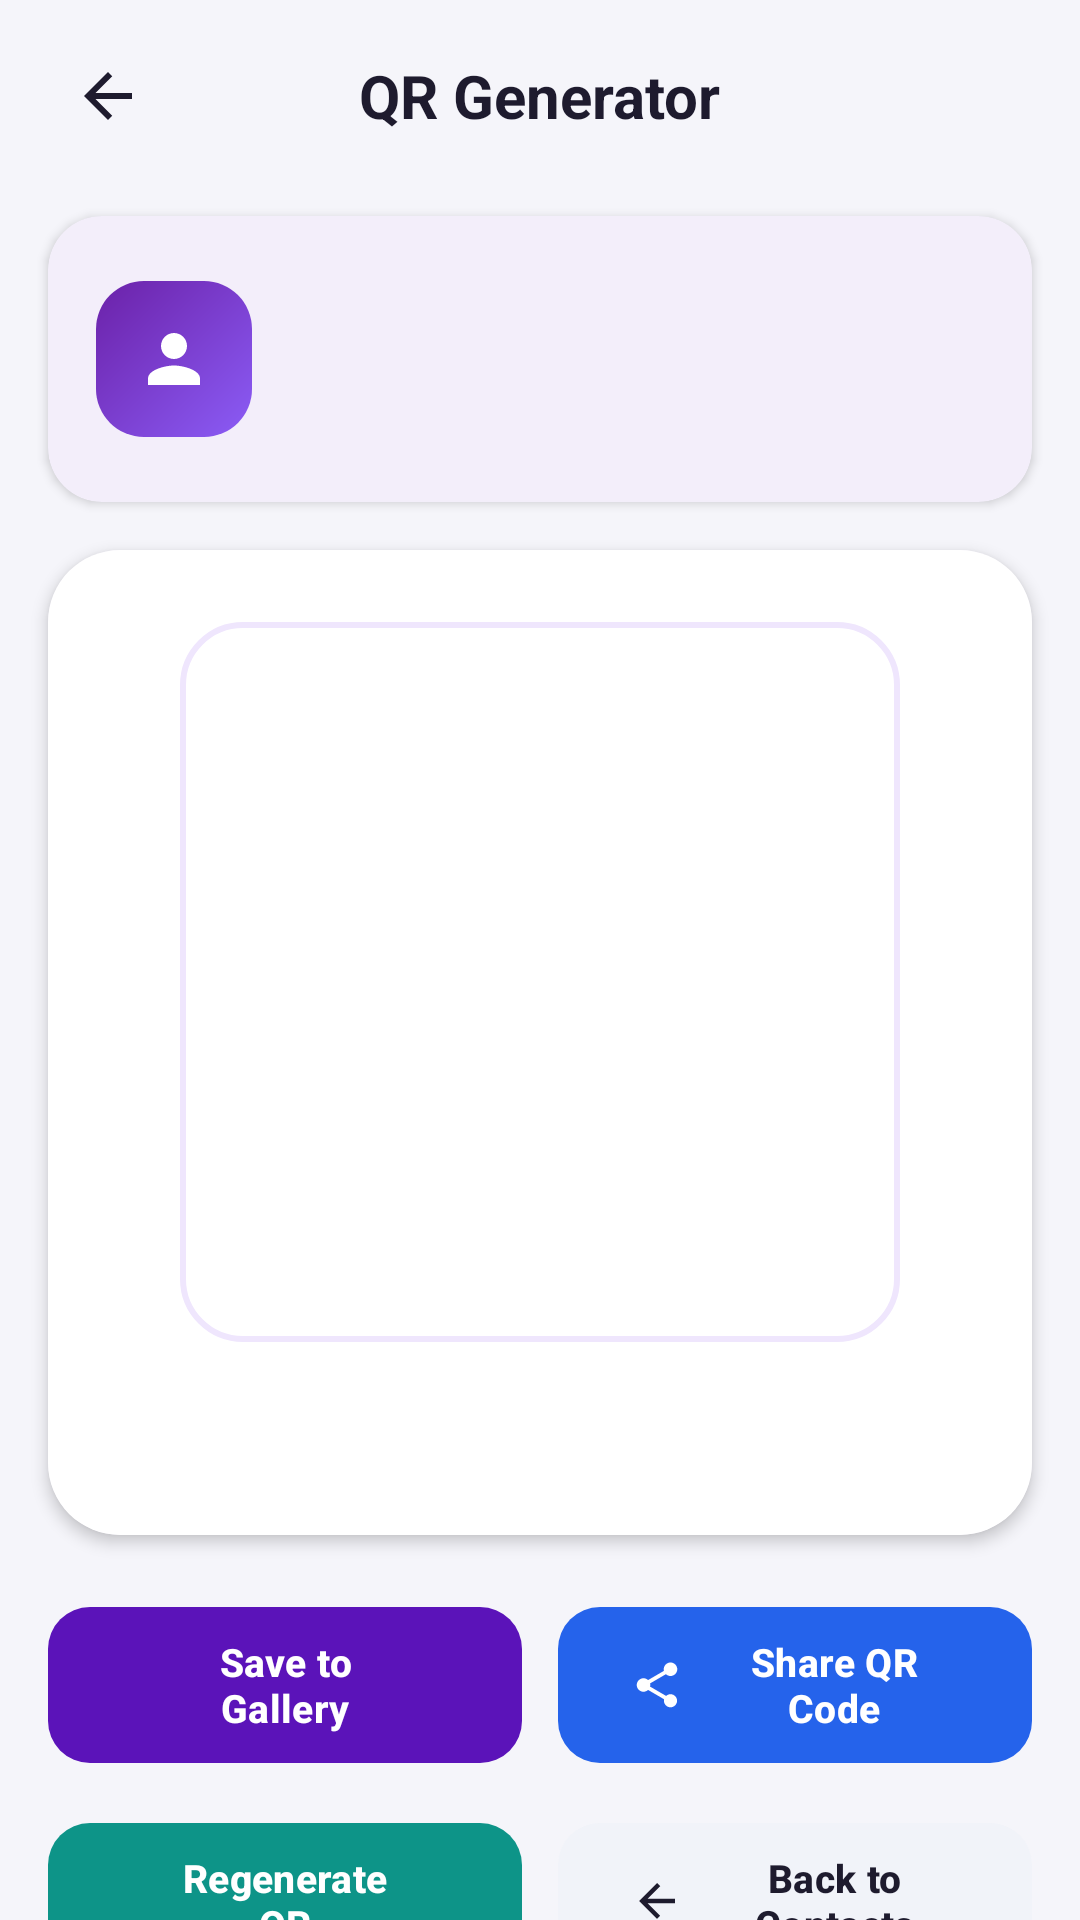

Where to tap for icons on this 1080 x 1920 app screen, as point (x, y):
Avatar: point (174, 359)
Back: point (108, 96)
